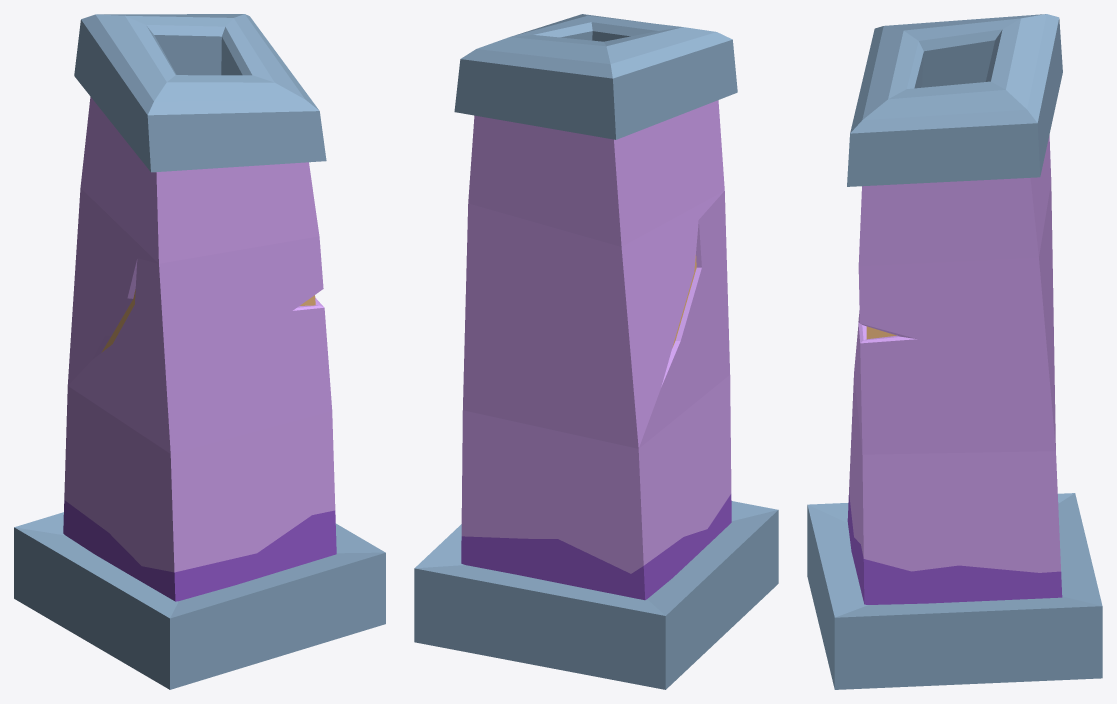
File: Chimney 04.fbx
3 renders of one model, left to right at view 1: azimuth 30°, elevation 25°; view 2: azimuth 150°, elevation 25°; view 3: azimuth 270°, elevation 25°, orthographic. The views are drawn at different scales.
Visible parts, largest first — view 1: Chimney 04; view 2: Chimney 04; view 3: Chimney 04.
Boxes of the visible parts, x1,y1,x2,y2 form: Chimney 04: (14,14,385,689); Chimney 04: (414,14,778,689); Chimney 04: (807,14,1102,689).
Bounding box in the file's own units: 139 × 308 × 139.
